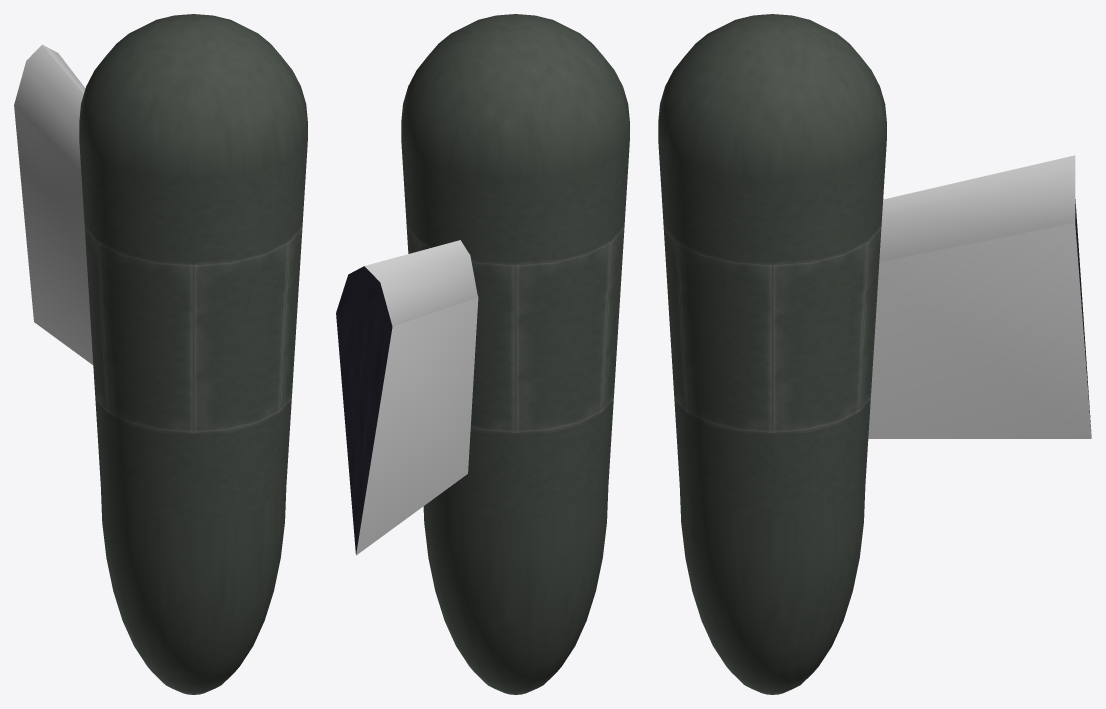
Rendered from JWDropTank.FBX.
3 renders of one model, left to right at view 1: azimuth 30°, elevation 25°; view 2: azimuth 150°, elevation 25°; view 3: azimuth 270°, elevation 25°, orthographic.
Visible parts, largest first — view 1: Tank, EnginePylon003; view 2: Tank, EnginePylon003; view 3: Tank, EnginePylon003.
Part boxes in pixels (x1,y1,x2,y2): Tank: [79, 14, 307, 694]; EnginePylon003: [14, 44, 93, 364]; Tank: [401, 14, 629, 694]; EnginePylon003: [336, 240, 478, 555]; Tank: [658, 14, 886, 694]; EnginePylon003: [868, 155, 1091, 438].
Size of the model in its own units: 0.1162 by 0.3682 by 0.2169.
